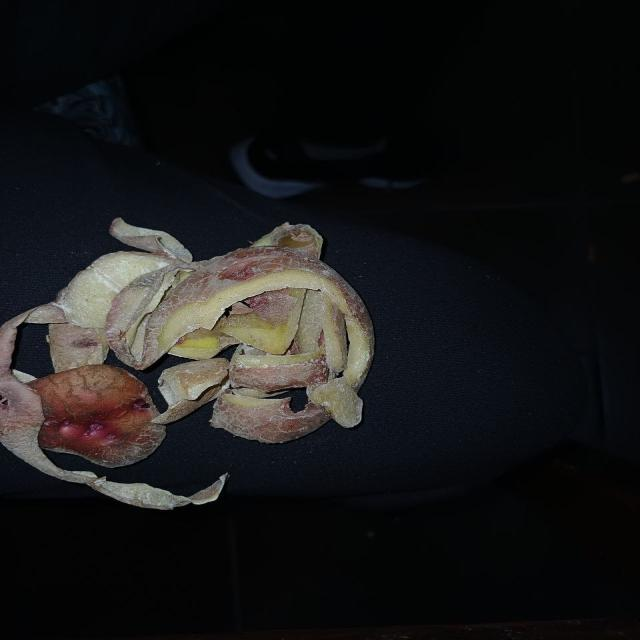organic: (0, 217, 374, 512)
